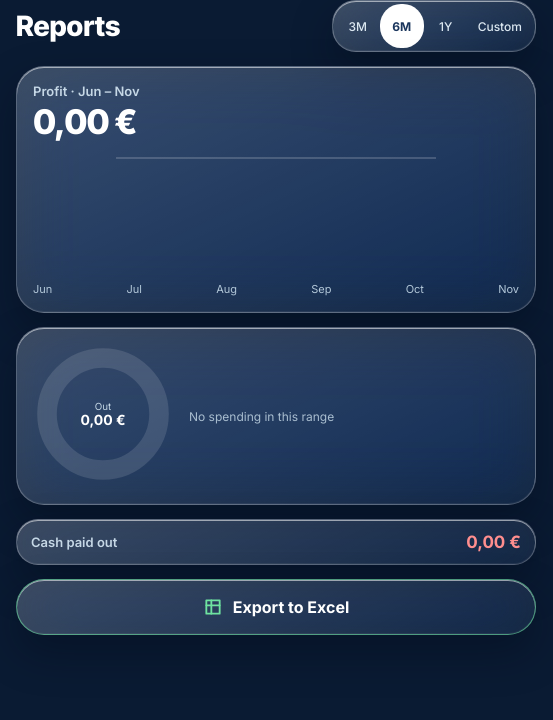
it: export button builds file and shares it
Click the button "Export to Excel". click: [276, 607]
box: [16,579,536,635]
(page scrolled)
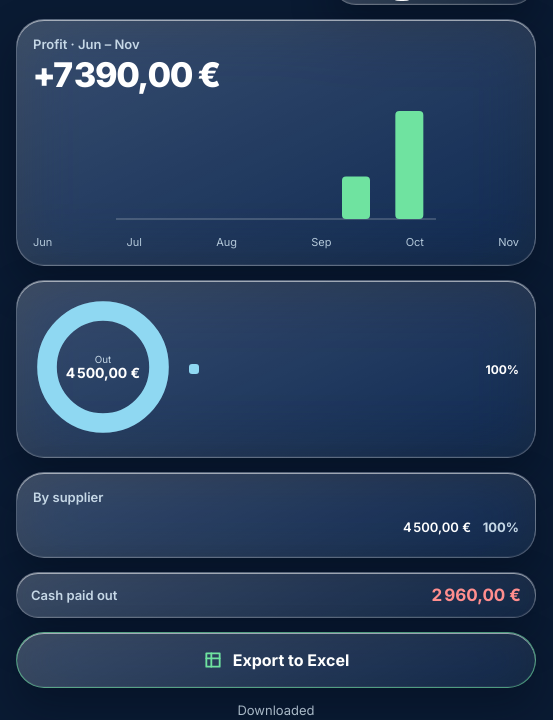
Expected: the text "Downloaded" is shown, [237,702,314,718]
